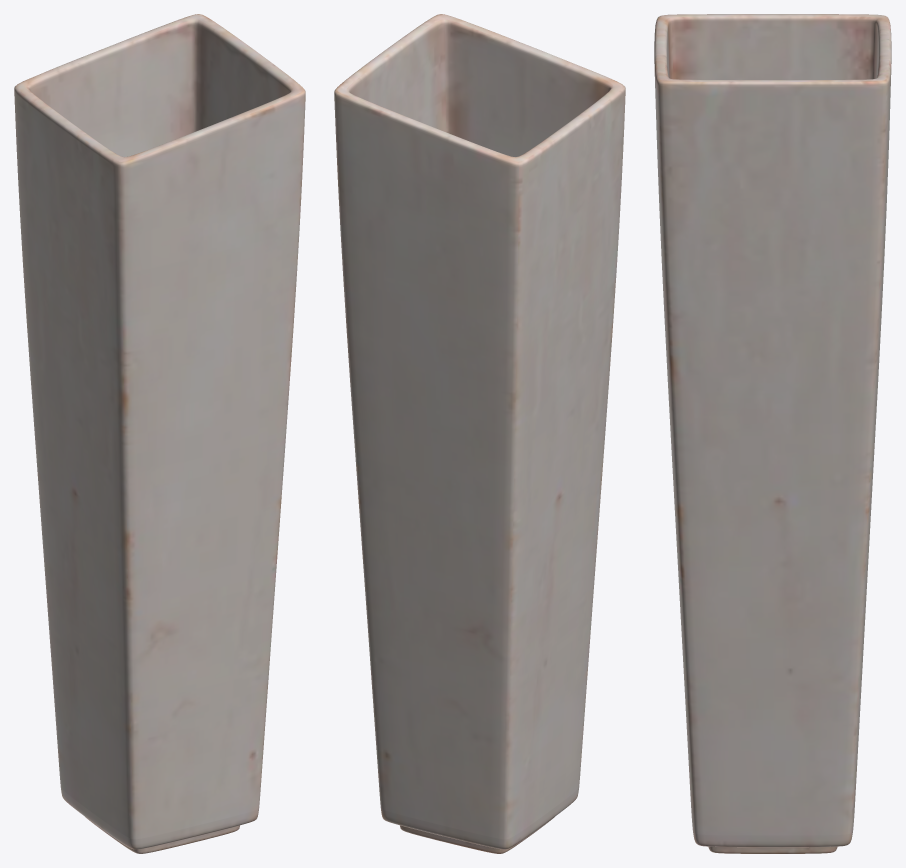
The model's file is ceramic_vase_03.e3c8a3b2.glb.
The picture shows the model from 3 angles, left to right: view 1: azimuth 30°, elevation 25°; view 2: azimuth 150°, elevation 25°; view 3: azimuth 270°, elevation 25°; orthographic projection. The views are drawn at different scales.
Visible parts, largest first — view 1: ceramic_vase_03; view 2: ceramic_vase_03; view 3: ceramic_vase_03.
Boxes of the visible parts, bbox=[...] form: ceramic_vase_03: bbox=[14, 14, 305, 853]; ceramic_vase_03: bbox=[334, 14, 625, 853]; ceramic_vase_03: bbox=[654, 14, 891, 853].
Size of the model in its own units: 0.2709 by 1 by 0.2709.
Materials: 1 (1 with a texture image).
